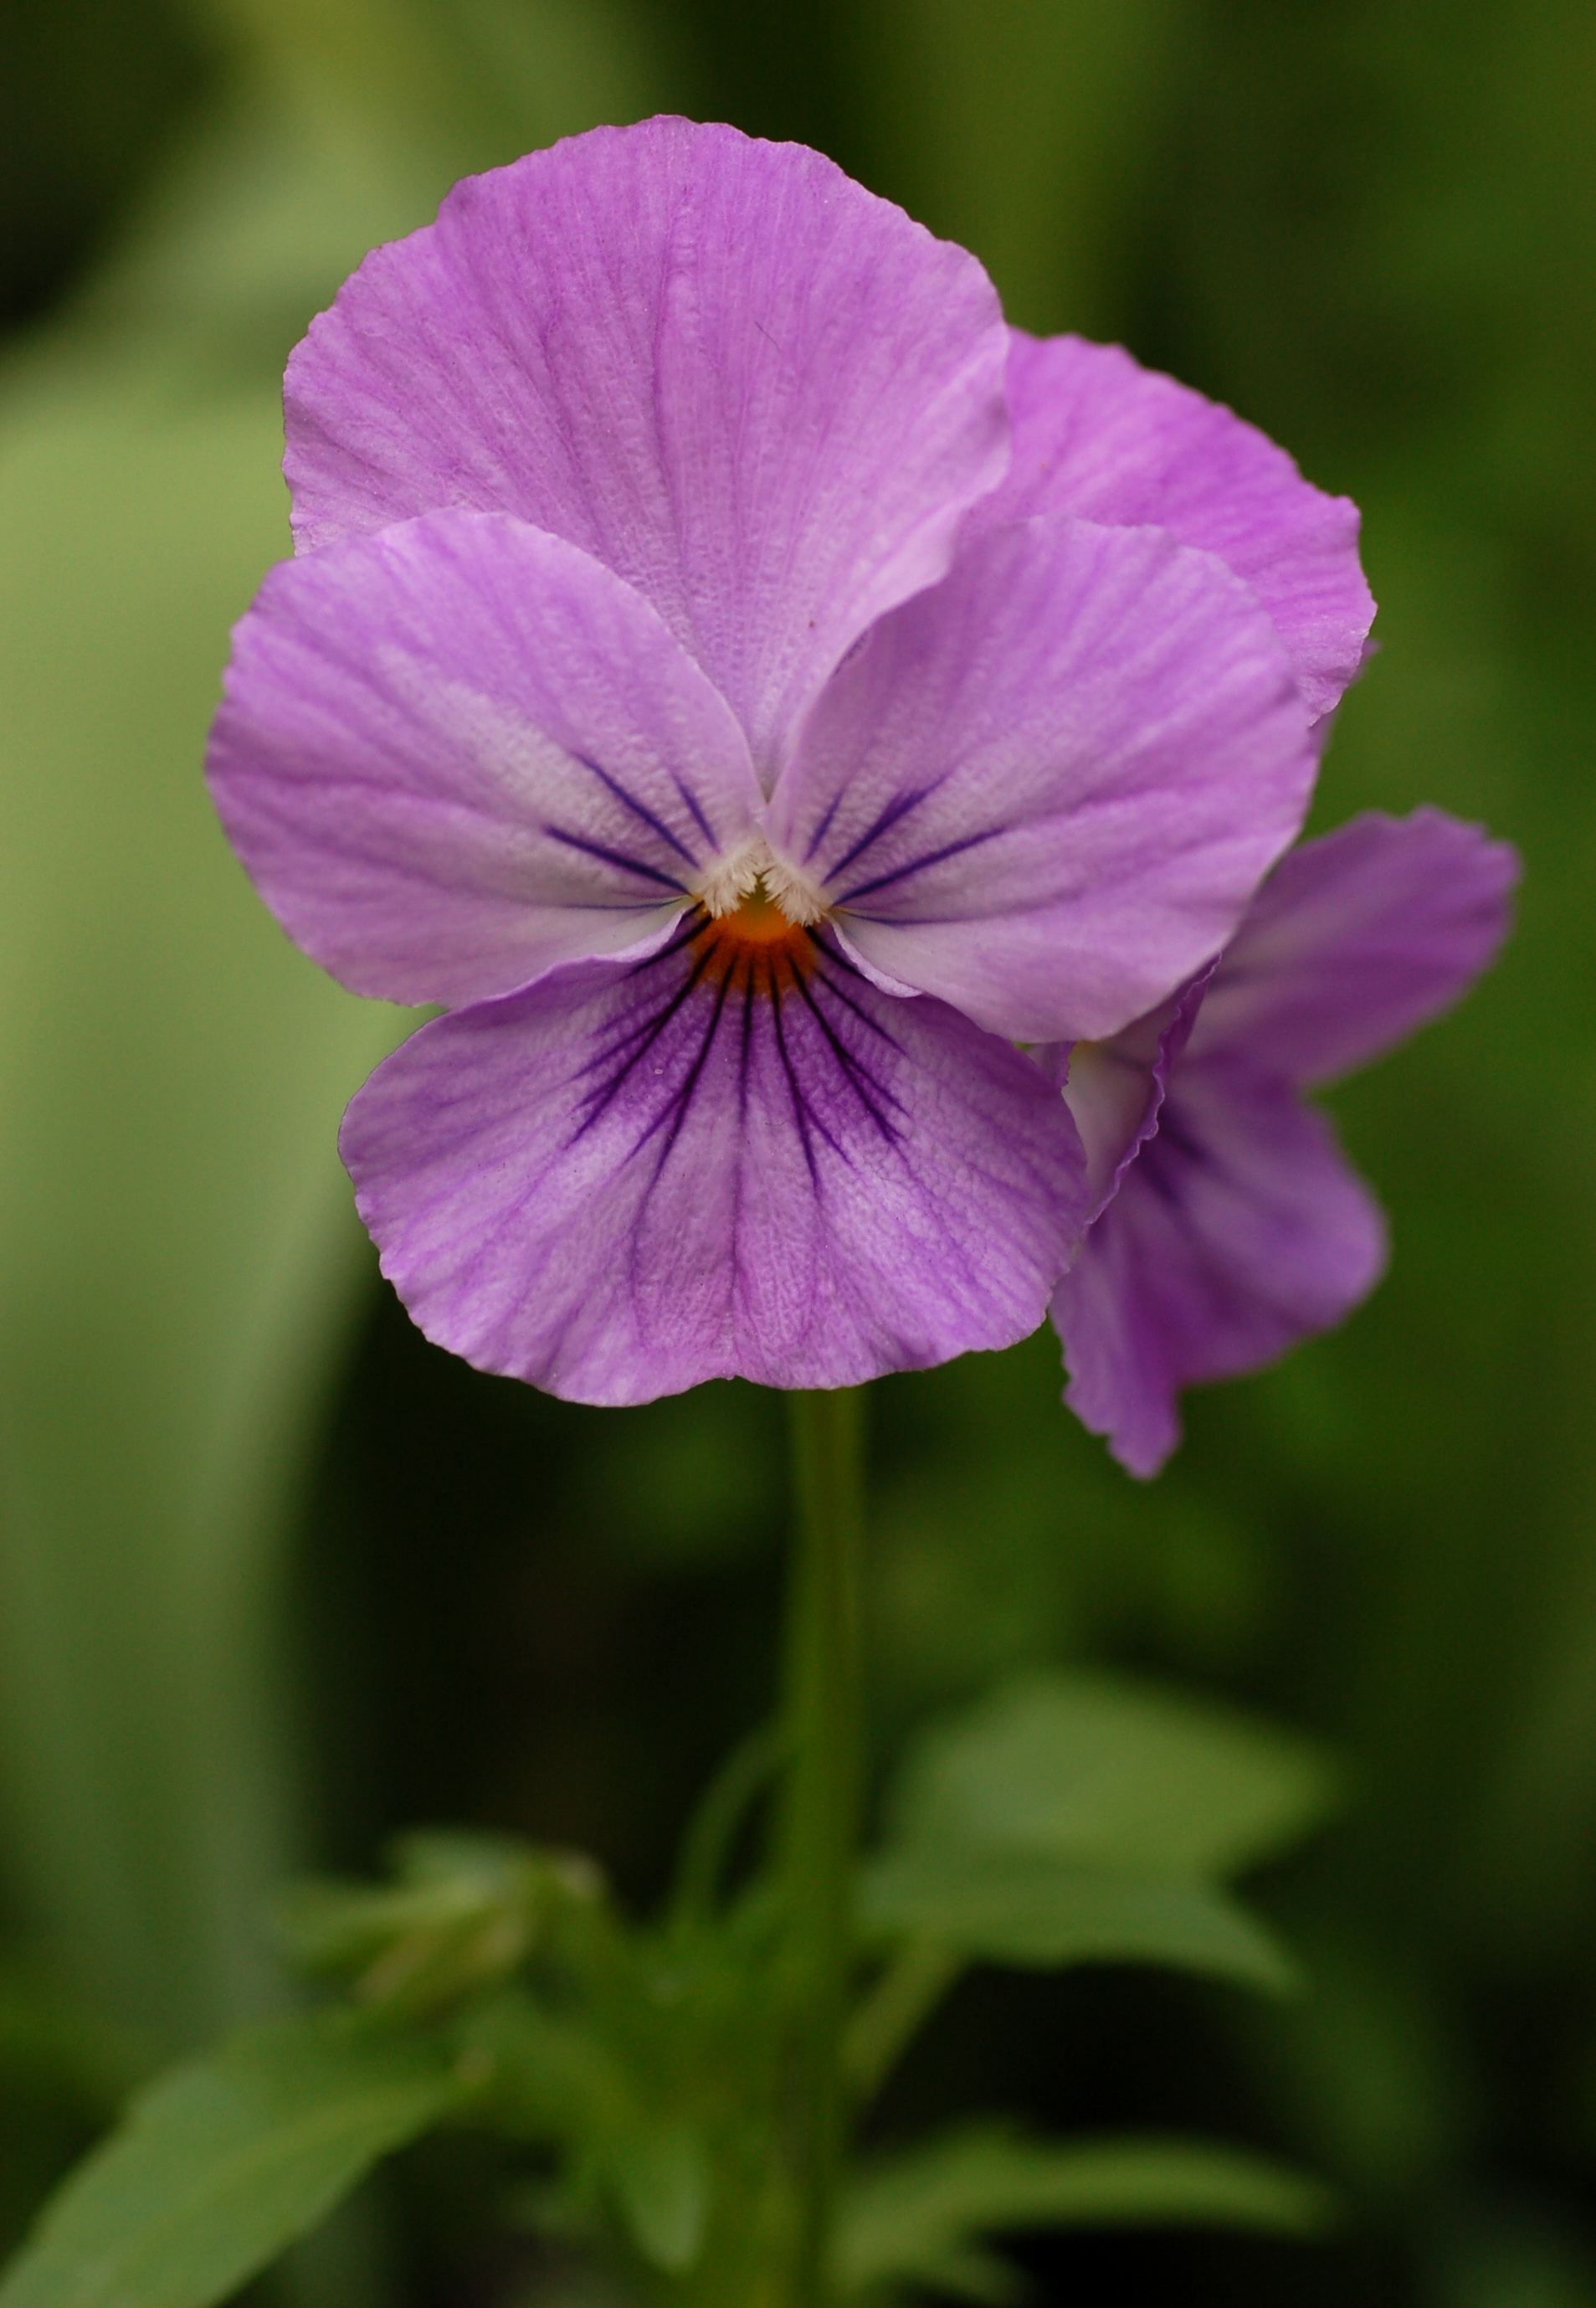violet: (221, 95, 1489, 1489)
